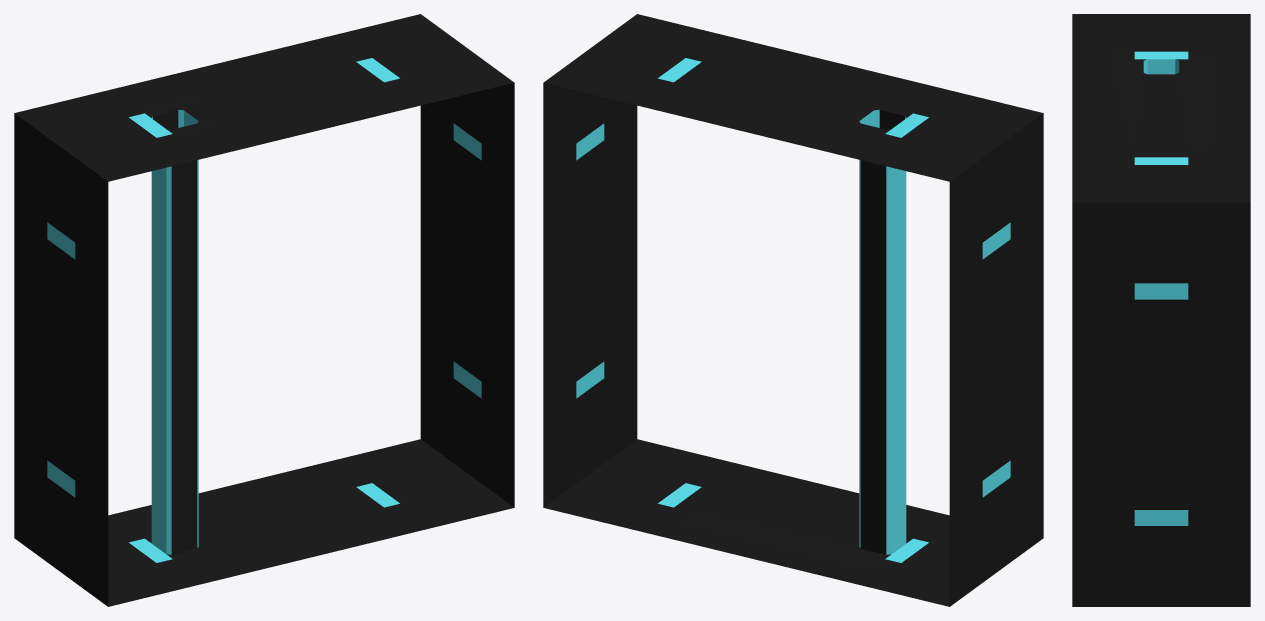
File: sidebar.FBX
3 views of the same model, side by side, from view 1: azimuth 30°, elevation 25°; view 2: azimuth 150°, elevation 25°; view 3: azimuth 270°, elevation 25° (orthographic). The views are drawn at different scales.
Visible parts, largest first — view 1: sidebar; view 2: sidebar; view 3: sidebar.
Boxes of the visible parts, bbox=[...] form: sidebar: bbox=[14, 14, 514, 606]; sidebar: bbox=[543, 14, 1043, 606]; sidebar: bbox=[1072, 14, 1250, 606].
Bounding box in the file's own units: 25 × 25 × 10.
